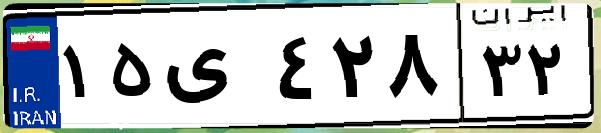1: (57, 26, 110, 100)
2: (330, 28, 385, 110), (525, 38, 570, 115)
3: (475, 38, 525, 113)
4: (270, 28, 330, 110)
5: (110, 28, 158, 98)
8: (385, 28, 445, 110)
ی: (158, 20, 270, 120)
